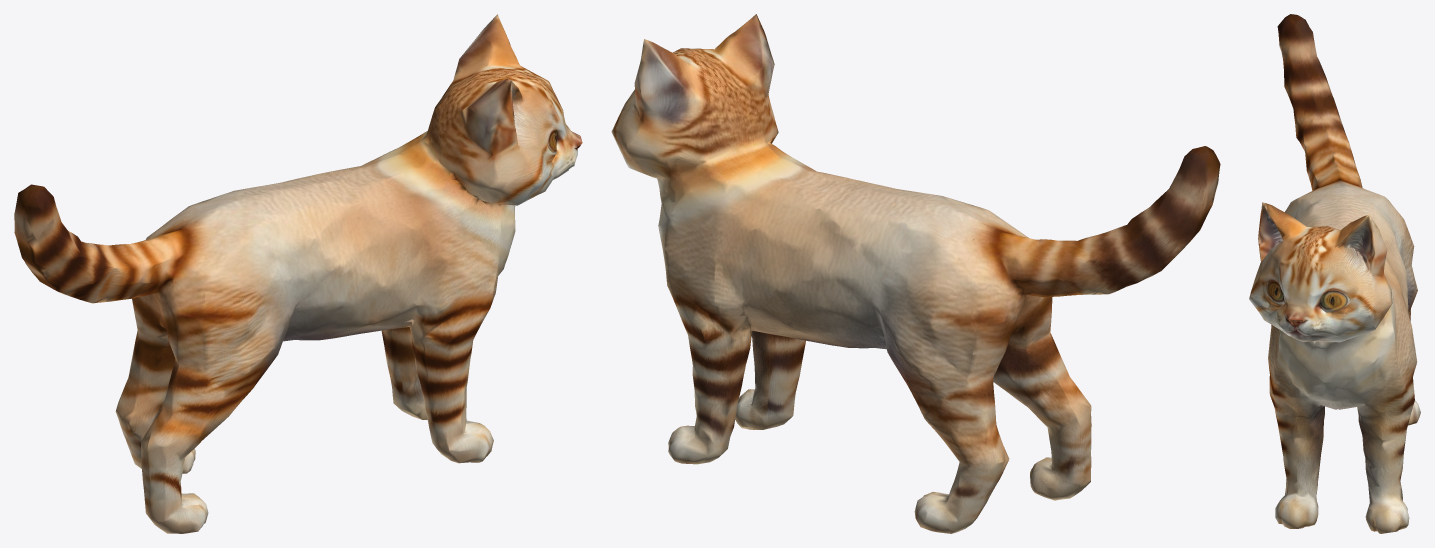
The model's file is INGOTLOAF.glb.
3 views of the same model, side by side, from view 1: azimuth 30°, elevation 25°; view 2: azimuth 150°, elevation 25°; view 3: azimuth 270°, elevation 25° (orthographic). The views are drawn at different scales.
Visible parts, largest first — view 1: fit; view 2: fit; view 3: fit.
Part boxes in pixels (left/top/right/bottom): fit: left=14, top=14, right=582, bottom=533; fit: left=611, top=14, right=1220, bottom=533; fit: left=1249, top=14, right=1420, bottom=533.
Bounding box in the file's own units: 1.5 × 1 × 0.4608.
Materials: 1 (1 with a texture image).
